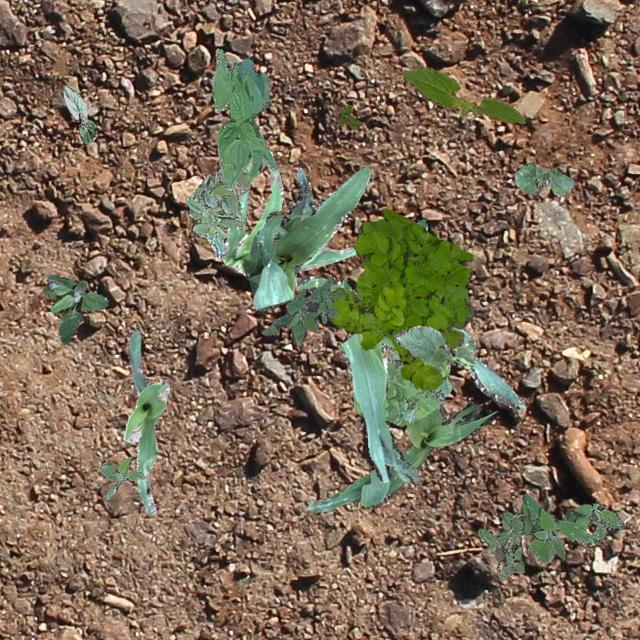crop: (294, 218, 524, 482), (308, 402, 494, 514), (242, 166, 370, 310), (222, 160, 356, 274), (210, 48, 276, 188), (122, 328, 168, 514), (402, 64, 524, 122), (392, 324, 478, 368), (62, 85, 96, 144), (514, 162, 574, 195)
weed: (328, 208, 472, 388), (476, 492, 624, 578), (352, 348, 450, 426), (184, 166, 250, 258), (260, 276, 342, 346), (42, 274, 108, 344), (98, 456, 144, 498), (336, 104, 361, 128)
